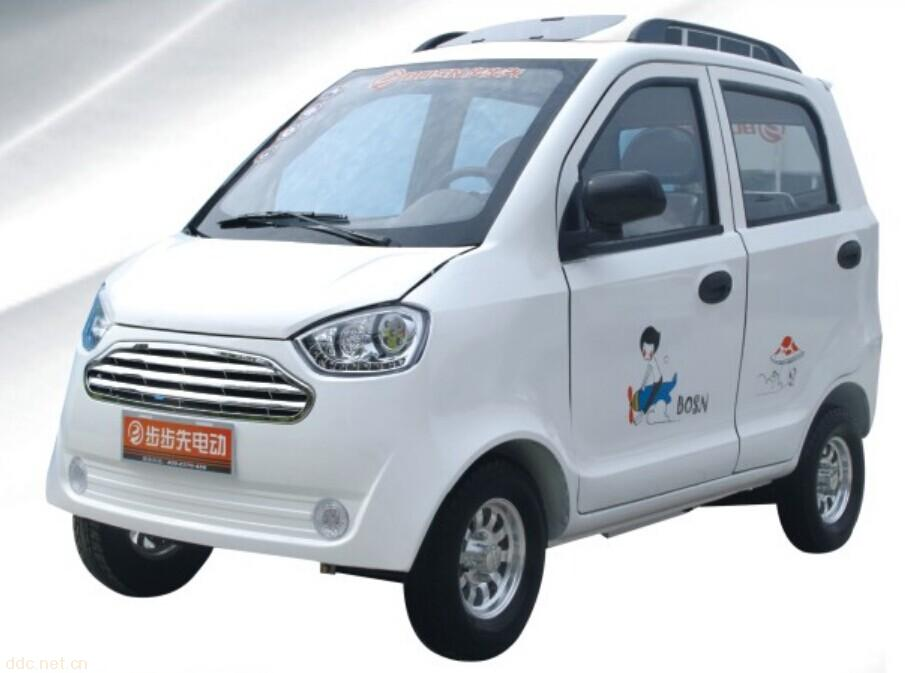MNV: (50, 15, 883, 657)
